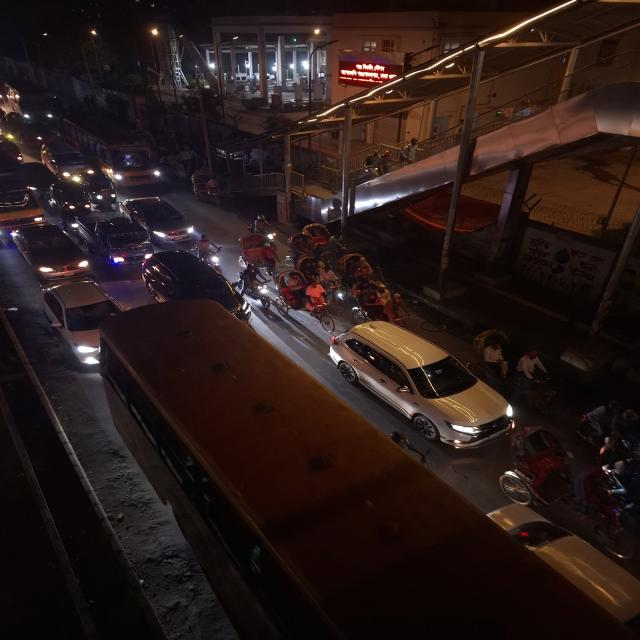bus: (98, 137, 168, 189)
car: (326, 311, 521, 448), (32, 277, 134, 370), (143, 243, 251, 319), (12, 220, 90, 277), (123, 192, 201, 246), (49, 148, 91, 180)
cng: (50, 186, 92, 217), (88, 182, 118, 210)
motorcycle: (240, 258, 271, 310), (246, 218, 280, 248)
pickup_van: (76, 215, 148, 268)
rickshaw: (496, 418, 640, 550), (478, 317, 562, 410), (274, 266, 336, 336), (334, 252, 376, 302), (303, 222, 348, 264), (191, 174, 223, 211)
